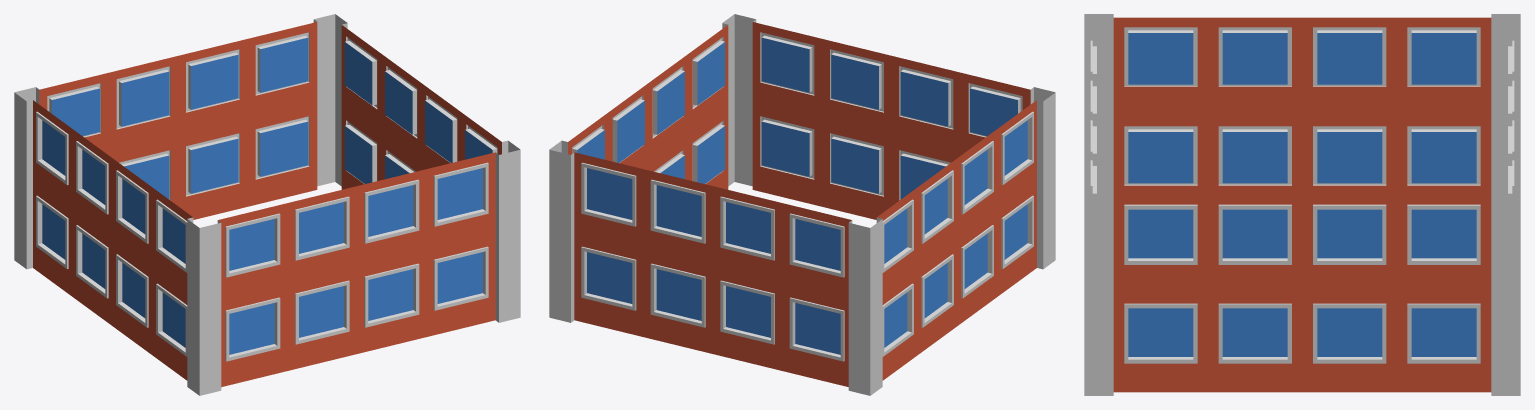
The model's file is Res_1x1_mid.fbx.
3 renders of one model, left to right at view 1: azimuth 30°, elevation 25°; view 2: azimuth 150°, elevation 25°; view 3: azimuth 270°, elevation 25°, orthographic. The views are drawn at different scales.
Visible parts, largest first — view 1: Building_001_10x10.mid; view 2: Building_001_10x10.mid; view 3: Building_001_10x10.mid.
Part boxes in pixels (x1,y1,x2,y2): Building_001_10x10.mid: (14,14,520,395); Building_001_10x10.mid: (549,14,1055,395); Building_001_10x10.mid: (1084,14,1520,395).
Size of the model in its own units: 1000 by 1000 by 500.
